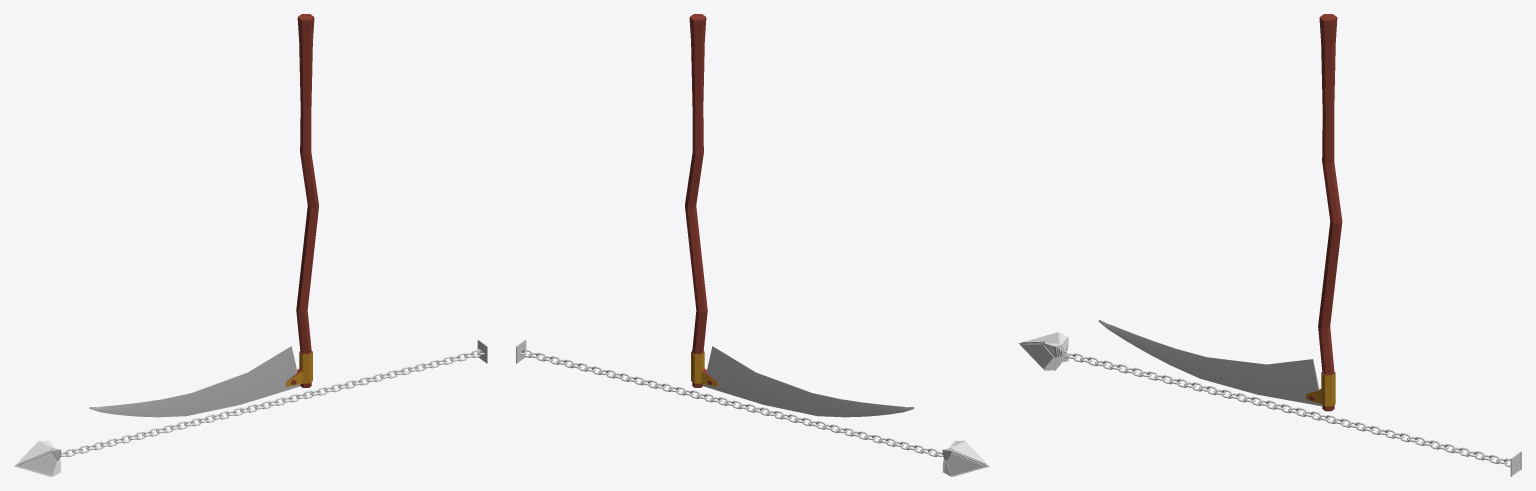
The model's file is Mesh_Weapon_Scythe.fbx.
3 renders of one model, left to right at view 1: azimuth 30°, elevation 25°; view 2: azimuth 150°, elevation 25°; view 3: azimuth 330°, elevation 25°, orthographic. The views are drawn at different scales.
Visible parts, largest first — view 1: Cylinder, Plane.001, CADENA, PUNTA; view 2: Cylinder, Plane.001, CADENA, PUNTA; view 3: Cylinder, Plane.001, CADENA, PUNTA.
Part boxes in pixels (x1,y1,x2,y2): Cylinder: [286, 14, 318, 387]; Plane.001: [89, 346, 300, 417]; CADENA: [60, 349, 481, 456]; PUNTA: [14, 440, 61, 476]; Cylinder: [685, 14, 717, 387]; Plane.001: [703, 346, 914, 417]; CADENA: [522, 349, 943, 456]; PUNTA: [942, 440, 989, 476]; Cylinder: [1306, 14, 1342, 411]; Plane.001: [1098, 319, 1322, 406]; CADENA: [1065, 353, 1510, 467]; PUNTA: [1018, 332, 1069, 370].
Bounding box in the file's own units: 30.68 × 558 × 445.
